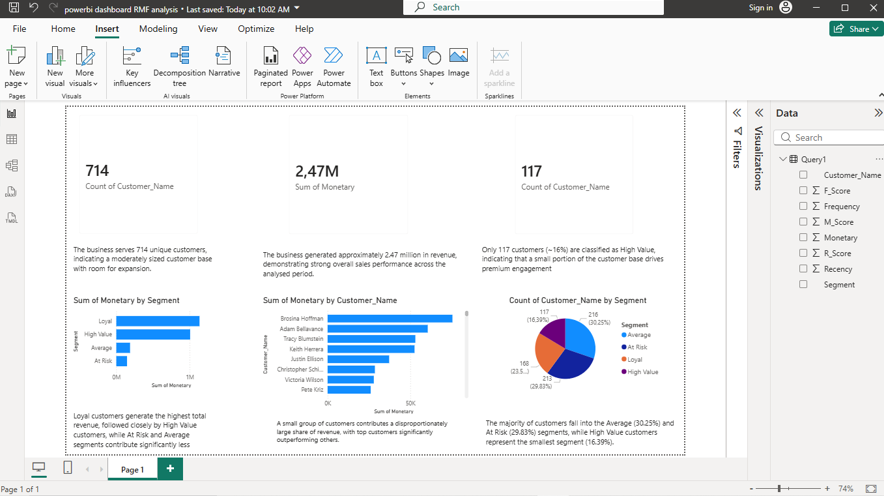

This screenshot's page, from the dashboard's own definition file:
{"tool":"powerbi","page":{"name":"Page 1","canvas":[1280,720],"ordinal":0},"visuals":[{"type":"cardVisual","fields":{"Data":["Count(Query1.Customer_Name)"]},"box":[10,0,280,280],"z":0},{"type":"cardVisual","fields":{"Data":["Sum(Query1.Monetary)"]},"box":[444.6,0,281.1,281.1],"z":1000},{"type":"cardVisual","fields":{"Data":["Count(Query1.Customer_Name)"]},"box":[913.5,0,279.7,281.1],"z":2000},{"type":"clusteredBarChart","fields":{"Category":["Query1.Segment"],"Y":["Sum(Query1.Monetary)"]},"box":[9.5,390.5,336.5,197.3],"z":3000},{"type":"clusteredBarChart","fields":{"Category":["Query1.Customer_Name"],"Y":["Sum(Query1.Monetary)"]},"box":[402.7,390.5,436.5,251.4],"z":4000},{"type":"pieChart","fields":{"Category":["Query1.Segment"],"Y":["Count(Query1.Customer_Name)"]},"box":[913.5,390.5,328.4,202.7],"z":5000},{"type":"textbox","box":[9.5,279.7,304.1,79.7],"z":6000},{"type":"textbox","box":[402.7,290.5,435.1,81.1],"z":7000},{"type":"textbox","box":[856.8,279.7,393.2,81.1],"z":7001},{"type":"textbox","box":[864.9,639.2,414.9,81.1],"z":7002},{"type":"textbox","box":[9.5,624.3,305.4,95.9],"z":7003},{"type":"textbox","box":[431.1,641.9,378.4,75.7],"z":7004}]}

Visuals, with their boxes on the page's 1280x720 design canvas (x1, y1, x2, y2). These are canvas units, not pixel positions in the 884x496 screenshot, which may show the page scaled, cropped or inside an application window:
cardVisual - Count(Query1.Customer_Name): Rect(10, 0, 290, 280)
cardVisual - Sum(Query1.Monetary): Rect(445, 0, 726, 281)
cardVisual - Count(Query1.Customer_Name): Rect(914, 0, 1193, 281)
clusteredBarChart - Query1.Segment x Sum(Query1.Monetary): Rect(10, 390, 346, 588)
clusteredBarChart - Query1.Customer_Name x Sum(Query1.Monetary): Rect(403, 390, 839, 642)
pieChart - Query1.Segment x Count(Query1.Customer_Name): Rect(914, 390, 1242, 593)
textbox: Rect(10, 280, 314, 359)
textbox: Rect(403, 290, 838, 372)
textbox: Rect(857, 280, 1250, 361)
textbox: Rect(865, 639, 1280, 720)
textbox: Rect(10, 624, 315, 720)
textbox: Rect(431, 642, 810, 718)
